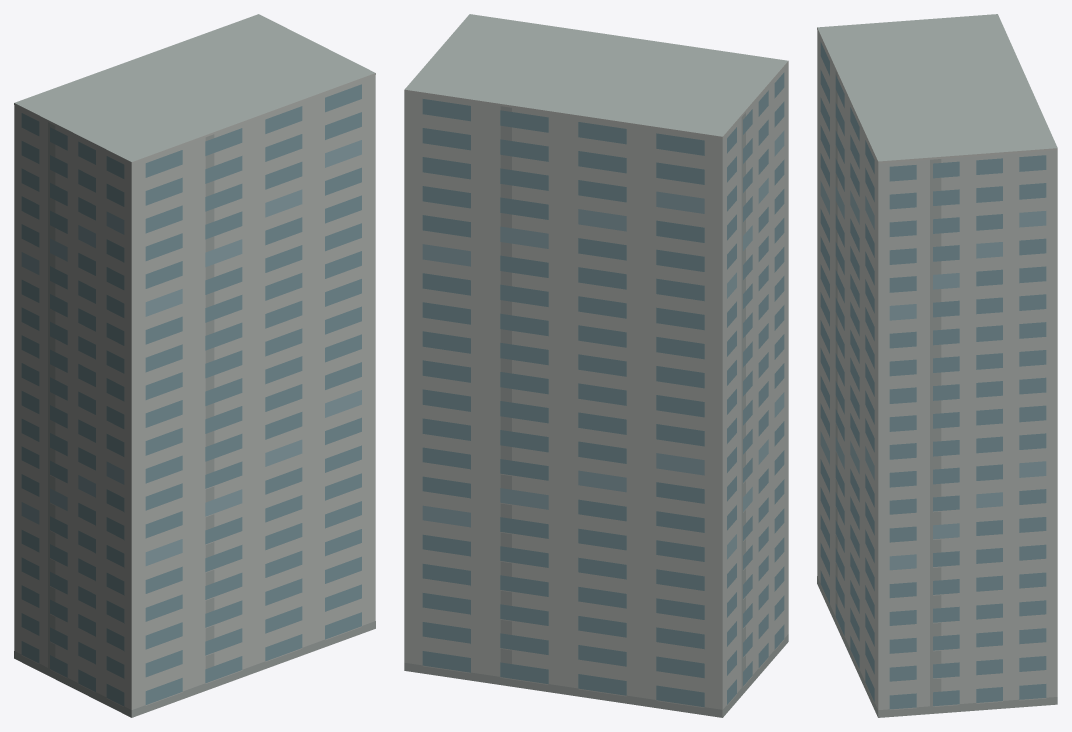
File: residential-9a26ff0b-8123-4ce6-a6a8-46813503ec0e.glb
3 renders of one model, left to right at view 1: azimuth 30°, elevation 25°; view 2: azimuth 150°, elevation 25°; view 3: azimuth 270°, elevation 25°, orthographic. The views are drawn at different scales.
Parts seen in each view (by area): view 1: residential-9a26ff0b-8123-4ce6-a6a8-46813503ec0e.tmp; view 2: residential-9a26ff0b-8123-4ce6-a6a8-46813503ec0e.tmp; view 3: residential-9a26ff0b-8123-4ce6-a6a8-46813503ec0e.tmp.
Boxes of the visible parts, bbox=[...] form: residential-9a26ff0b-8123-4ce6-a6a8-46813503ec0e.tmp: bbox=[14, 14, 375, 717]; residential-9a26ff0b-8123-4ce6-a6a8-46813503ec0e.tmp: bbox=[404, 14, 788, 717]; residential-9a26ff0b-8123-4ce6-a6a8-46813503ec0e.tmp: bbox=[817, 14, 1057, 717].
Bounding box in the file's own units: 36.39 × 64 × 25.09.
